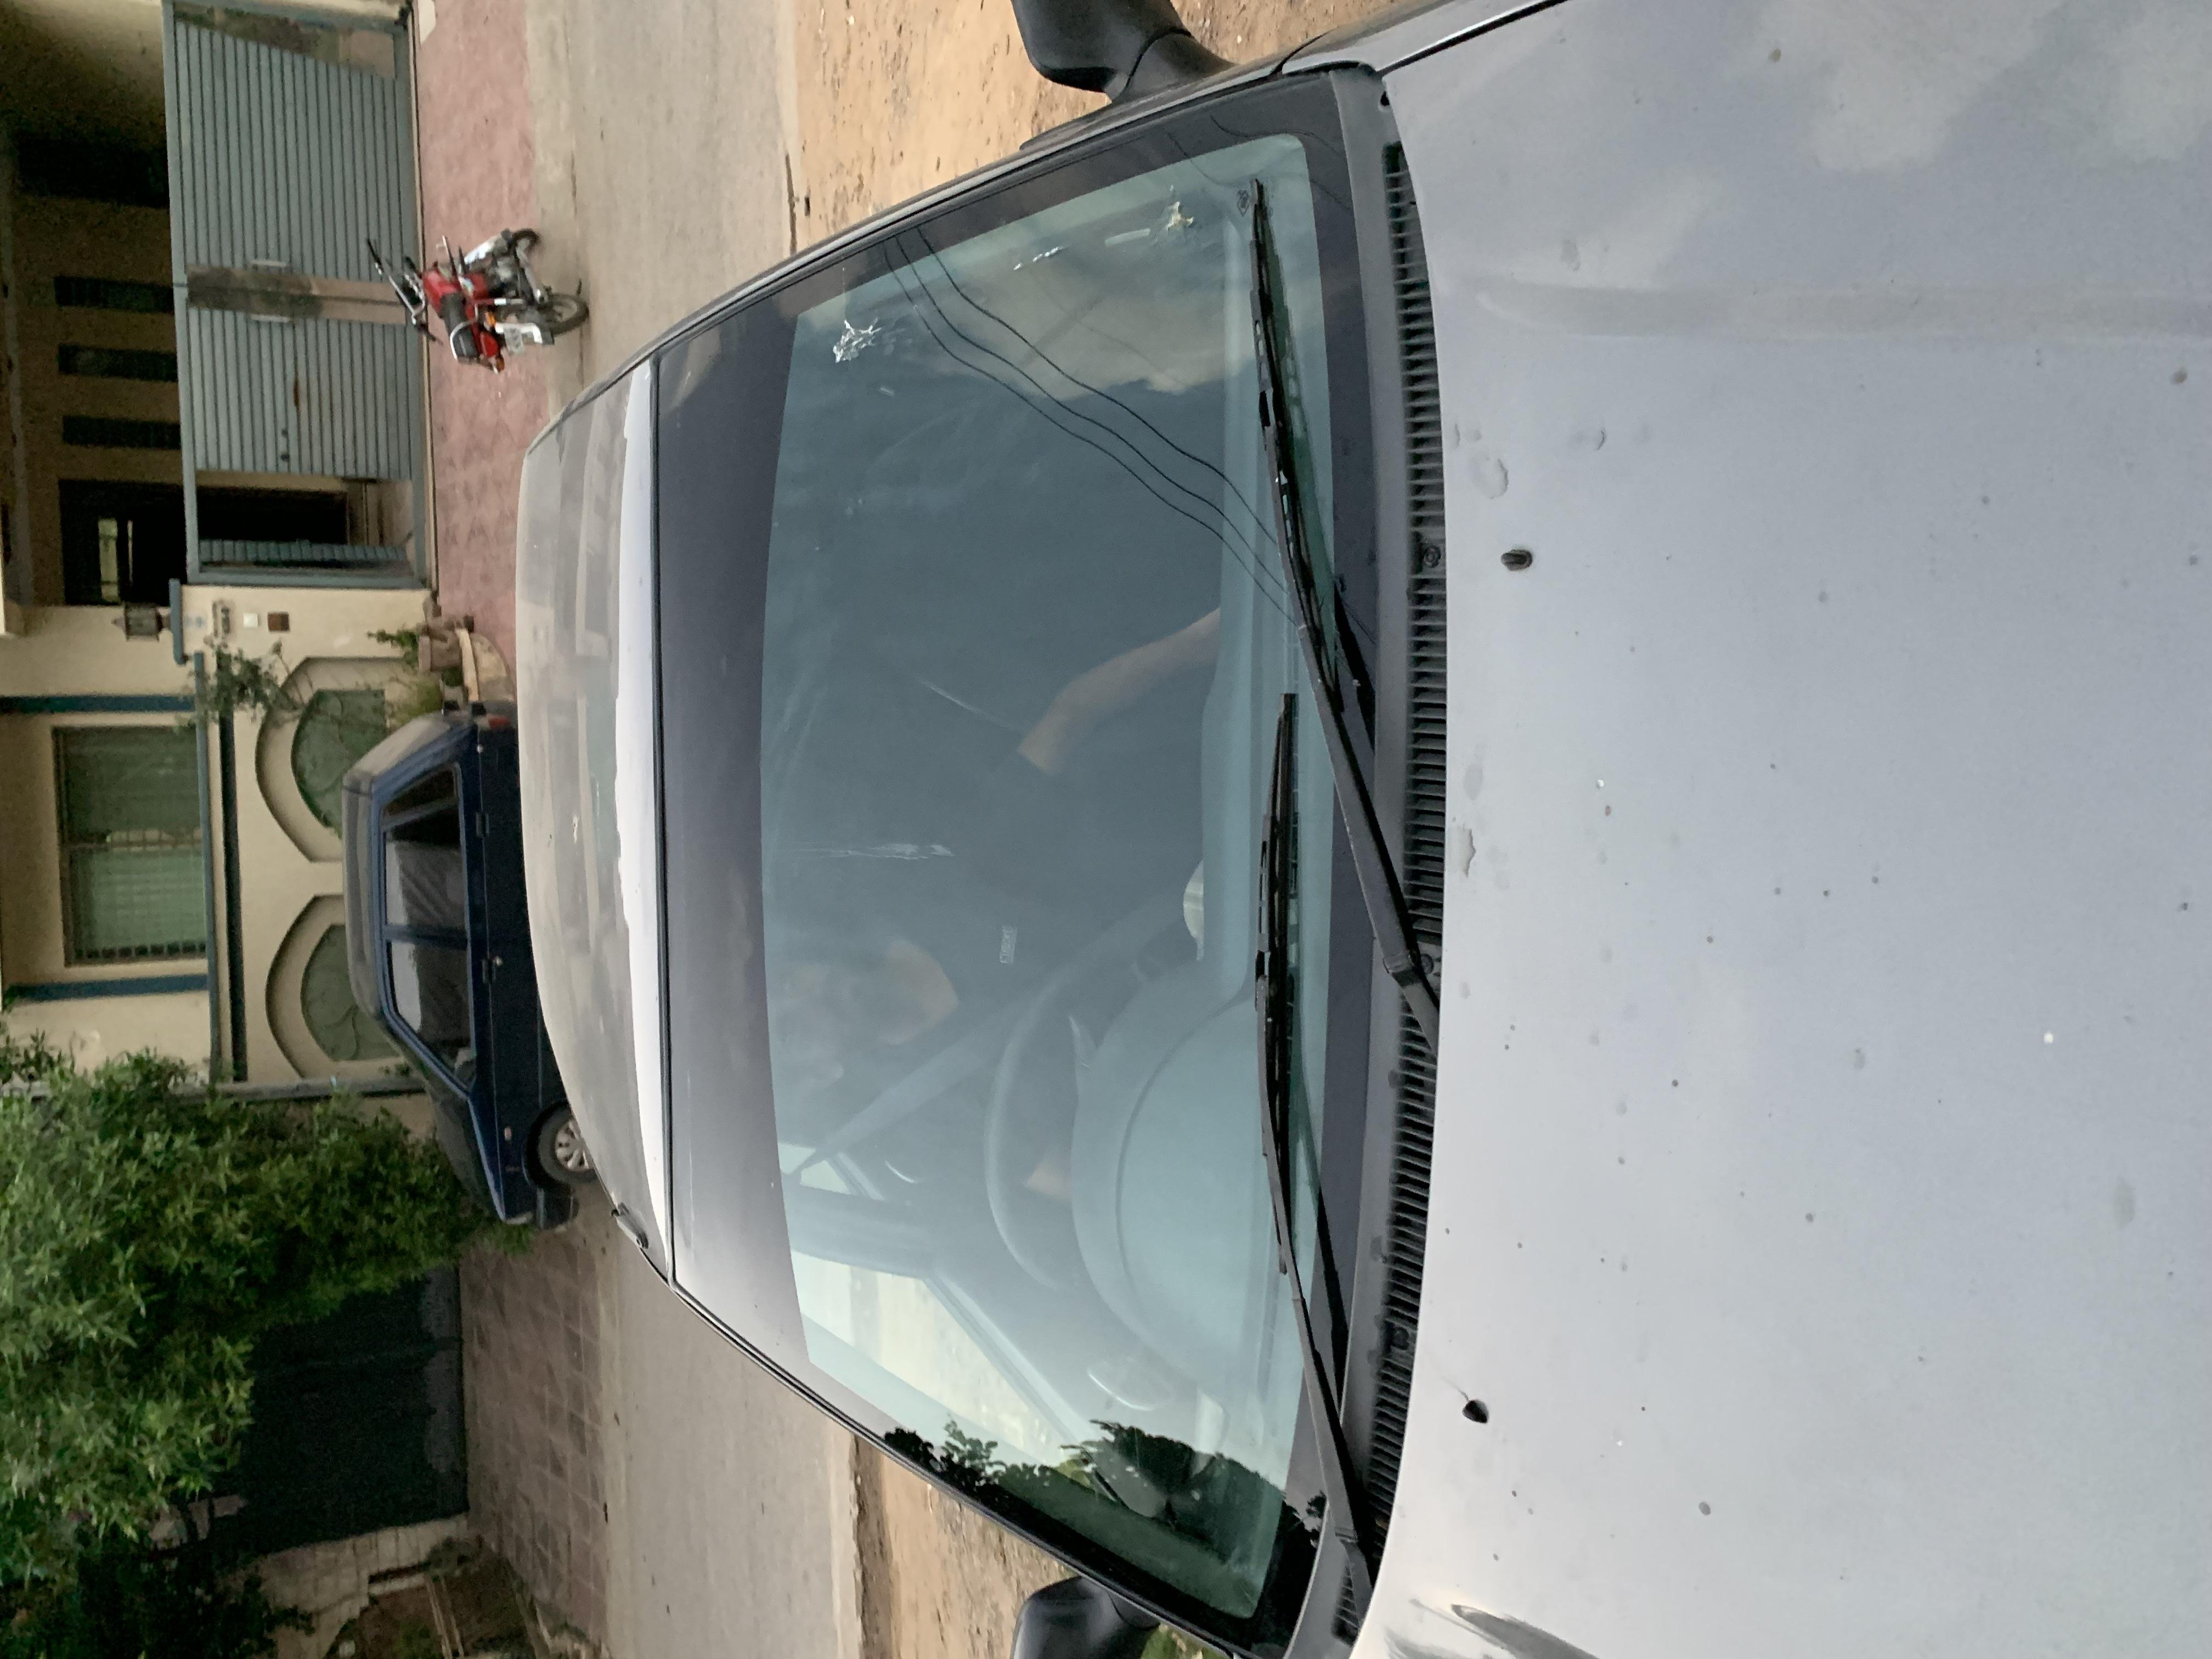windshield: (0, 477, 2130, 1066)
